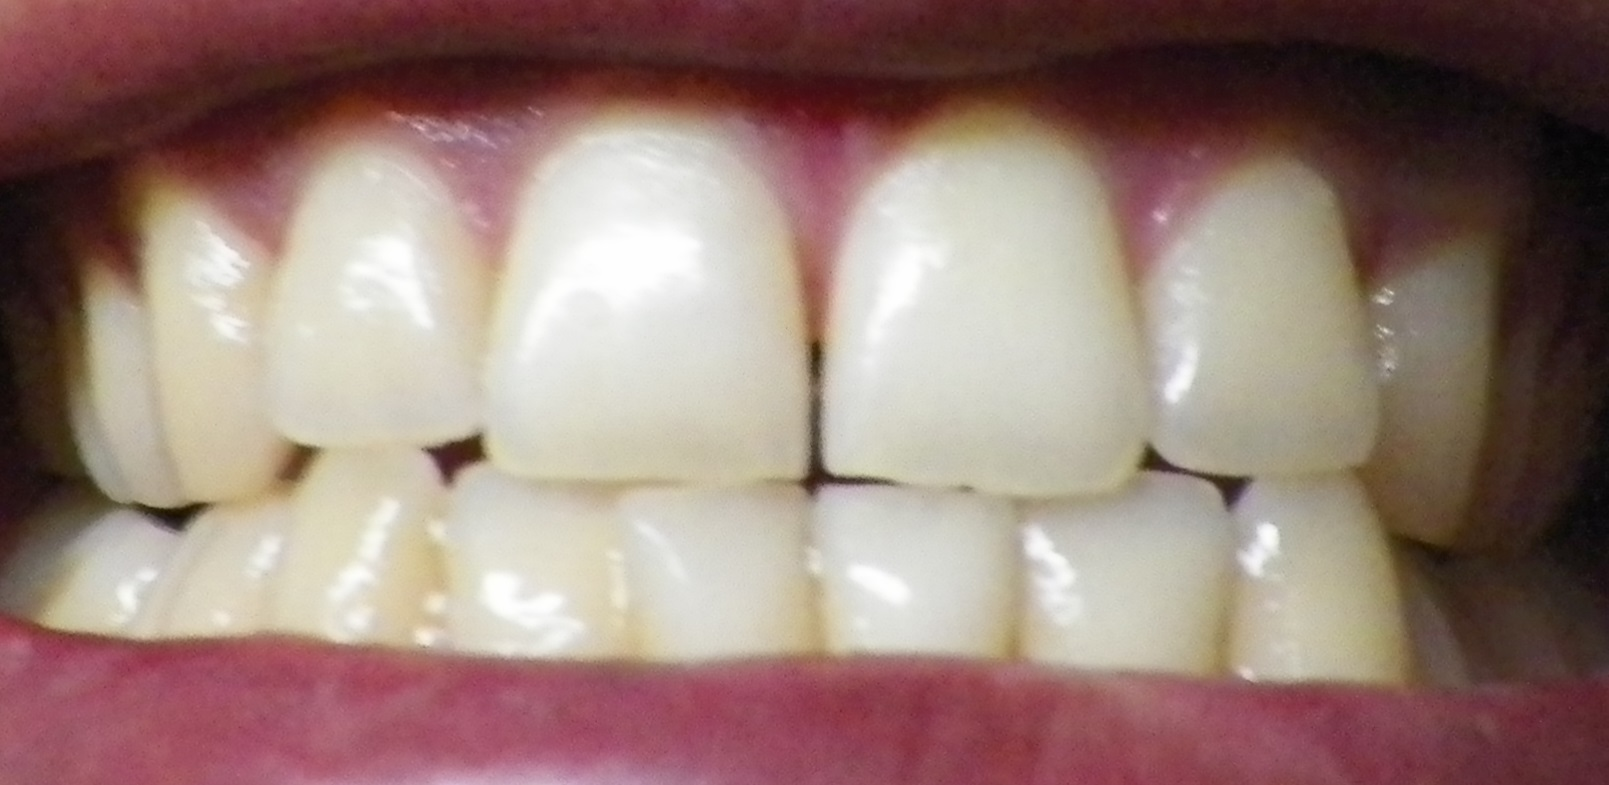boca: (12, 106, 1590, 679)
